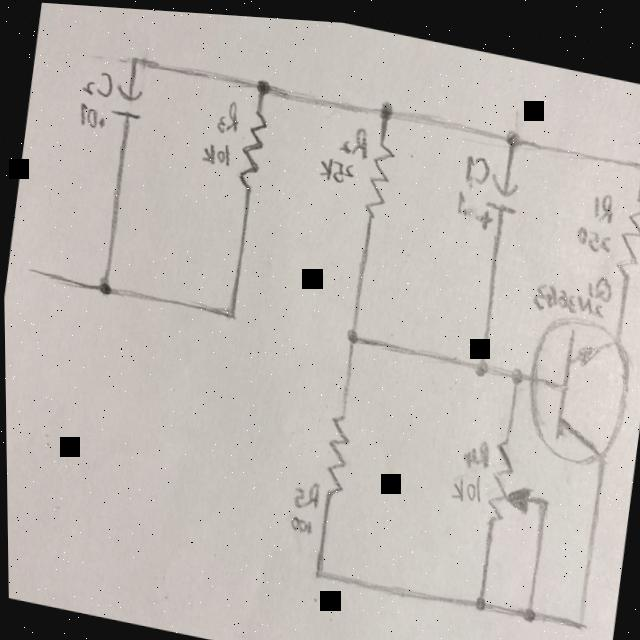capacitor: (473, 162, 522, 229), (110, 79, 147, 123)
junction: (497, 109, 532, 152), (370, 84, 403, 124), (248, 64, 279, 101), (92, 265, 119, 306), (305, 549, 334, 587), (339, 313, 368, 350), (530, 477, 555, 519), (467, 342, 496, 378), (516, 590, 543, 626), (220, 293, 248, 327), (504, 352, 529, 385), (569, 600, 594, 633), (126, 41, 148, 72), (469, 582, 491, 611), (632, 139, 640, 171)
resistor: (482, 425, 540, 528), (232, 99, 272, 196), (319, 401, 356, 503), (361, 132, 399, 219), (612, 180, 640, 277)
terminal: (18, 257, 50, 290)
text: (530, 277, 605, 315), (457, 426, 494, 468), (569, 215, 614, 249), (447, 463, 486, 502), (337, 116, 373, 158), (317, 149, 357, 186), (72, 98, 109, 135), (81, 62, 117, 99), (289, 470, 322, 510), (214, 93, 242, 136), (200, 134, 233, 170), (462, 144, 492, 183), (589, 179, 619, 217), (583, 265, 619, 294), (281, 508, 315, 538), (445, 181, 472, 216)
transistor: (517, 302, 640, 467)
